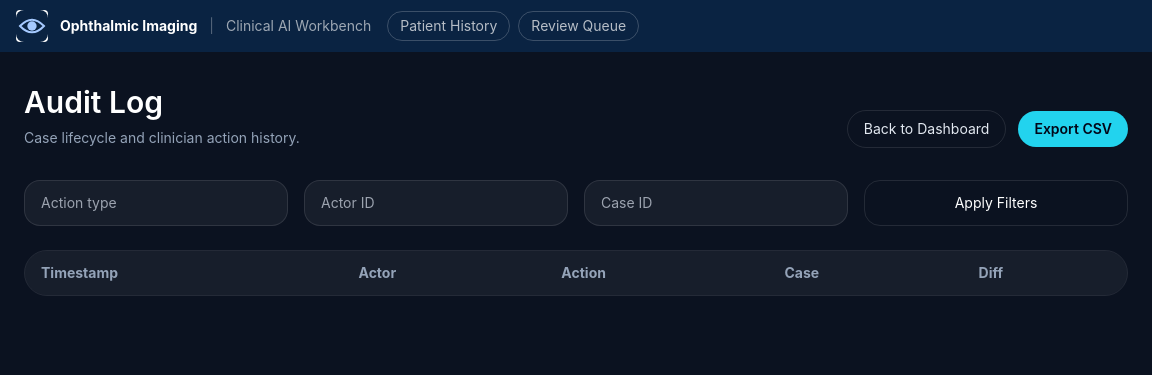
Test case: AuditLog direct component handling › catches a 403 export rejection and renders the error without an unhandled rejection
The width and height of the screenshot is (1152, 375).
Expected: the heading "Audit Log" is shown, [24,84,163,120]
Click the button "Export CSV".
click(1073, 129)  # box [1018,111,1128,147]
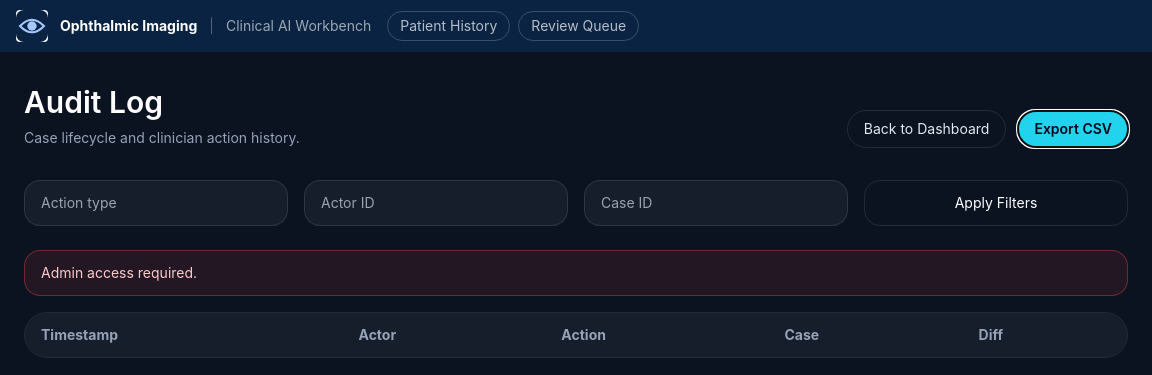
Expected: the text "Admin access required." is shown, [24,250,1128,296]
